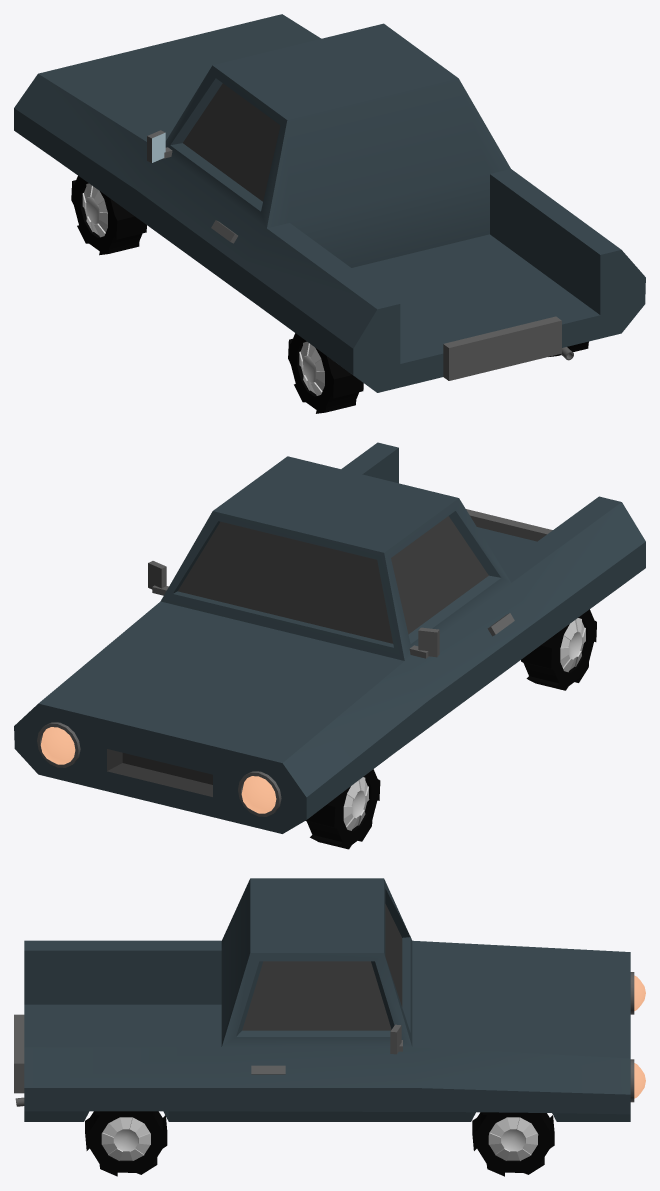
The model's file is Car_Basic_5.glb.
3 renders of one model, top to bottom at view 1: azimuth 30°, elevation 25°; view 2: azimuth 150°, elevation 25°; view 3: azimuth 270°, elevation 25°, orthographic. The views are drawn at different scales.
Parts seen in each view (by area): view 1: Cube.5510, Cube.5517, Cylinder.4462, Cylinder.4465, Cylinder.4463, Cylinder.4466; view 2: Cube.5510, Cylinder.4462, Cylinder.4465, Cube.5517, Sphere.408, Sphere.410, Cylinder.4463, Cylinder.4466, Sphere.411, Sphere.409; view 3: Cube.5510, Cylinder.4467, Cylinder.4469, Cylinder.4470, Cylinder.4468, Cube.5517.
Part boxes in pixels (x1,y1,x2,y2): Cube.5510: (14, 14, 645, 392); Cube.5517: (443, 316, 561, 380); Cylinder.4462: (288, 333, 363, 413); Cylinder.4465: (71, 176, 146, 255); Cylinder.4463: (299, 341, 324, 395); Cylinder.4466: (82, 183, 107, 237); Cube.5510: (14, 442, 645, 833); Cylinder.4462: (521, 609, 596, 690); Cylinder.4465: (305, 769, 380, 849); Cube.5517: (466, 509, 552, 541); Sphere.408: (241, 776, 276, 813); Sphere.410: (40, 727, 75, 764); Cylinder.4463: (560, 618, 585, 672); Cylinder.4466: (343, 777, 369, 830); Sphere.411: (37, 722, 80, 767); Sphere.409: (238, 771, 281, 816); Cube.5510: (24, 878, 630, 1121); Cylinder.4467: (85, 1111, 167, 1176); Cylinder.4469: (472, 1112, 554, 1176); Cylinder.4470: (488, 1117, 538, 1160); Cylinder.4468: (101, 1117, 150, 1160); Cube.5517: (14, 1014, 24, 1093).
Bounding box in the file's own units: 2.08 × 1.55 × 4.35.
